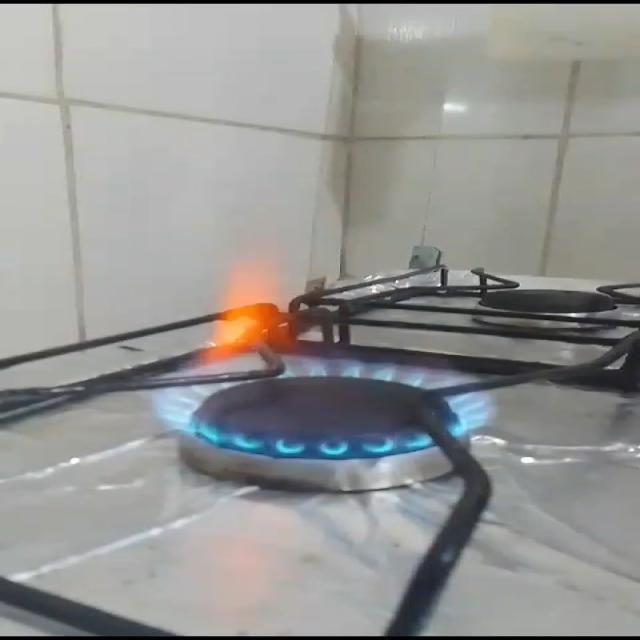fogo-ypXI: (148, 253, 504, 458)
